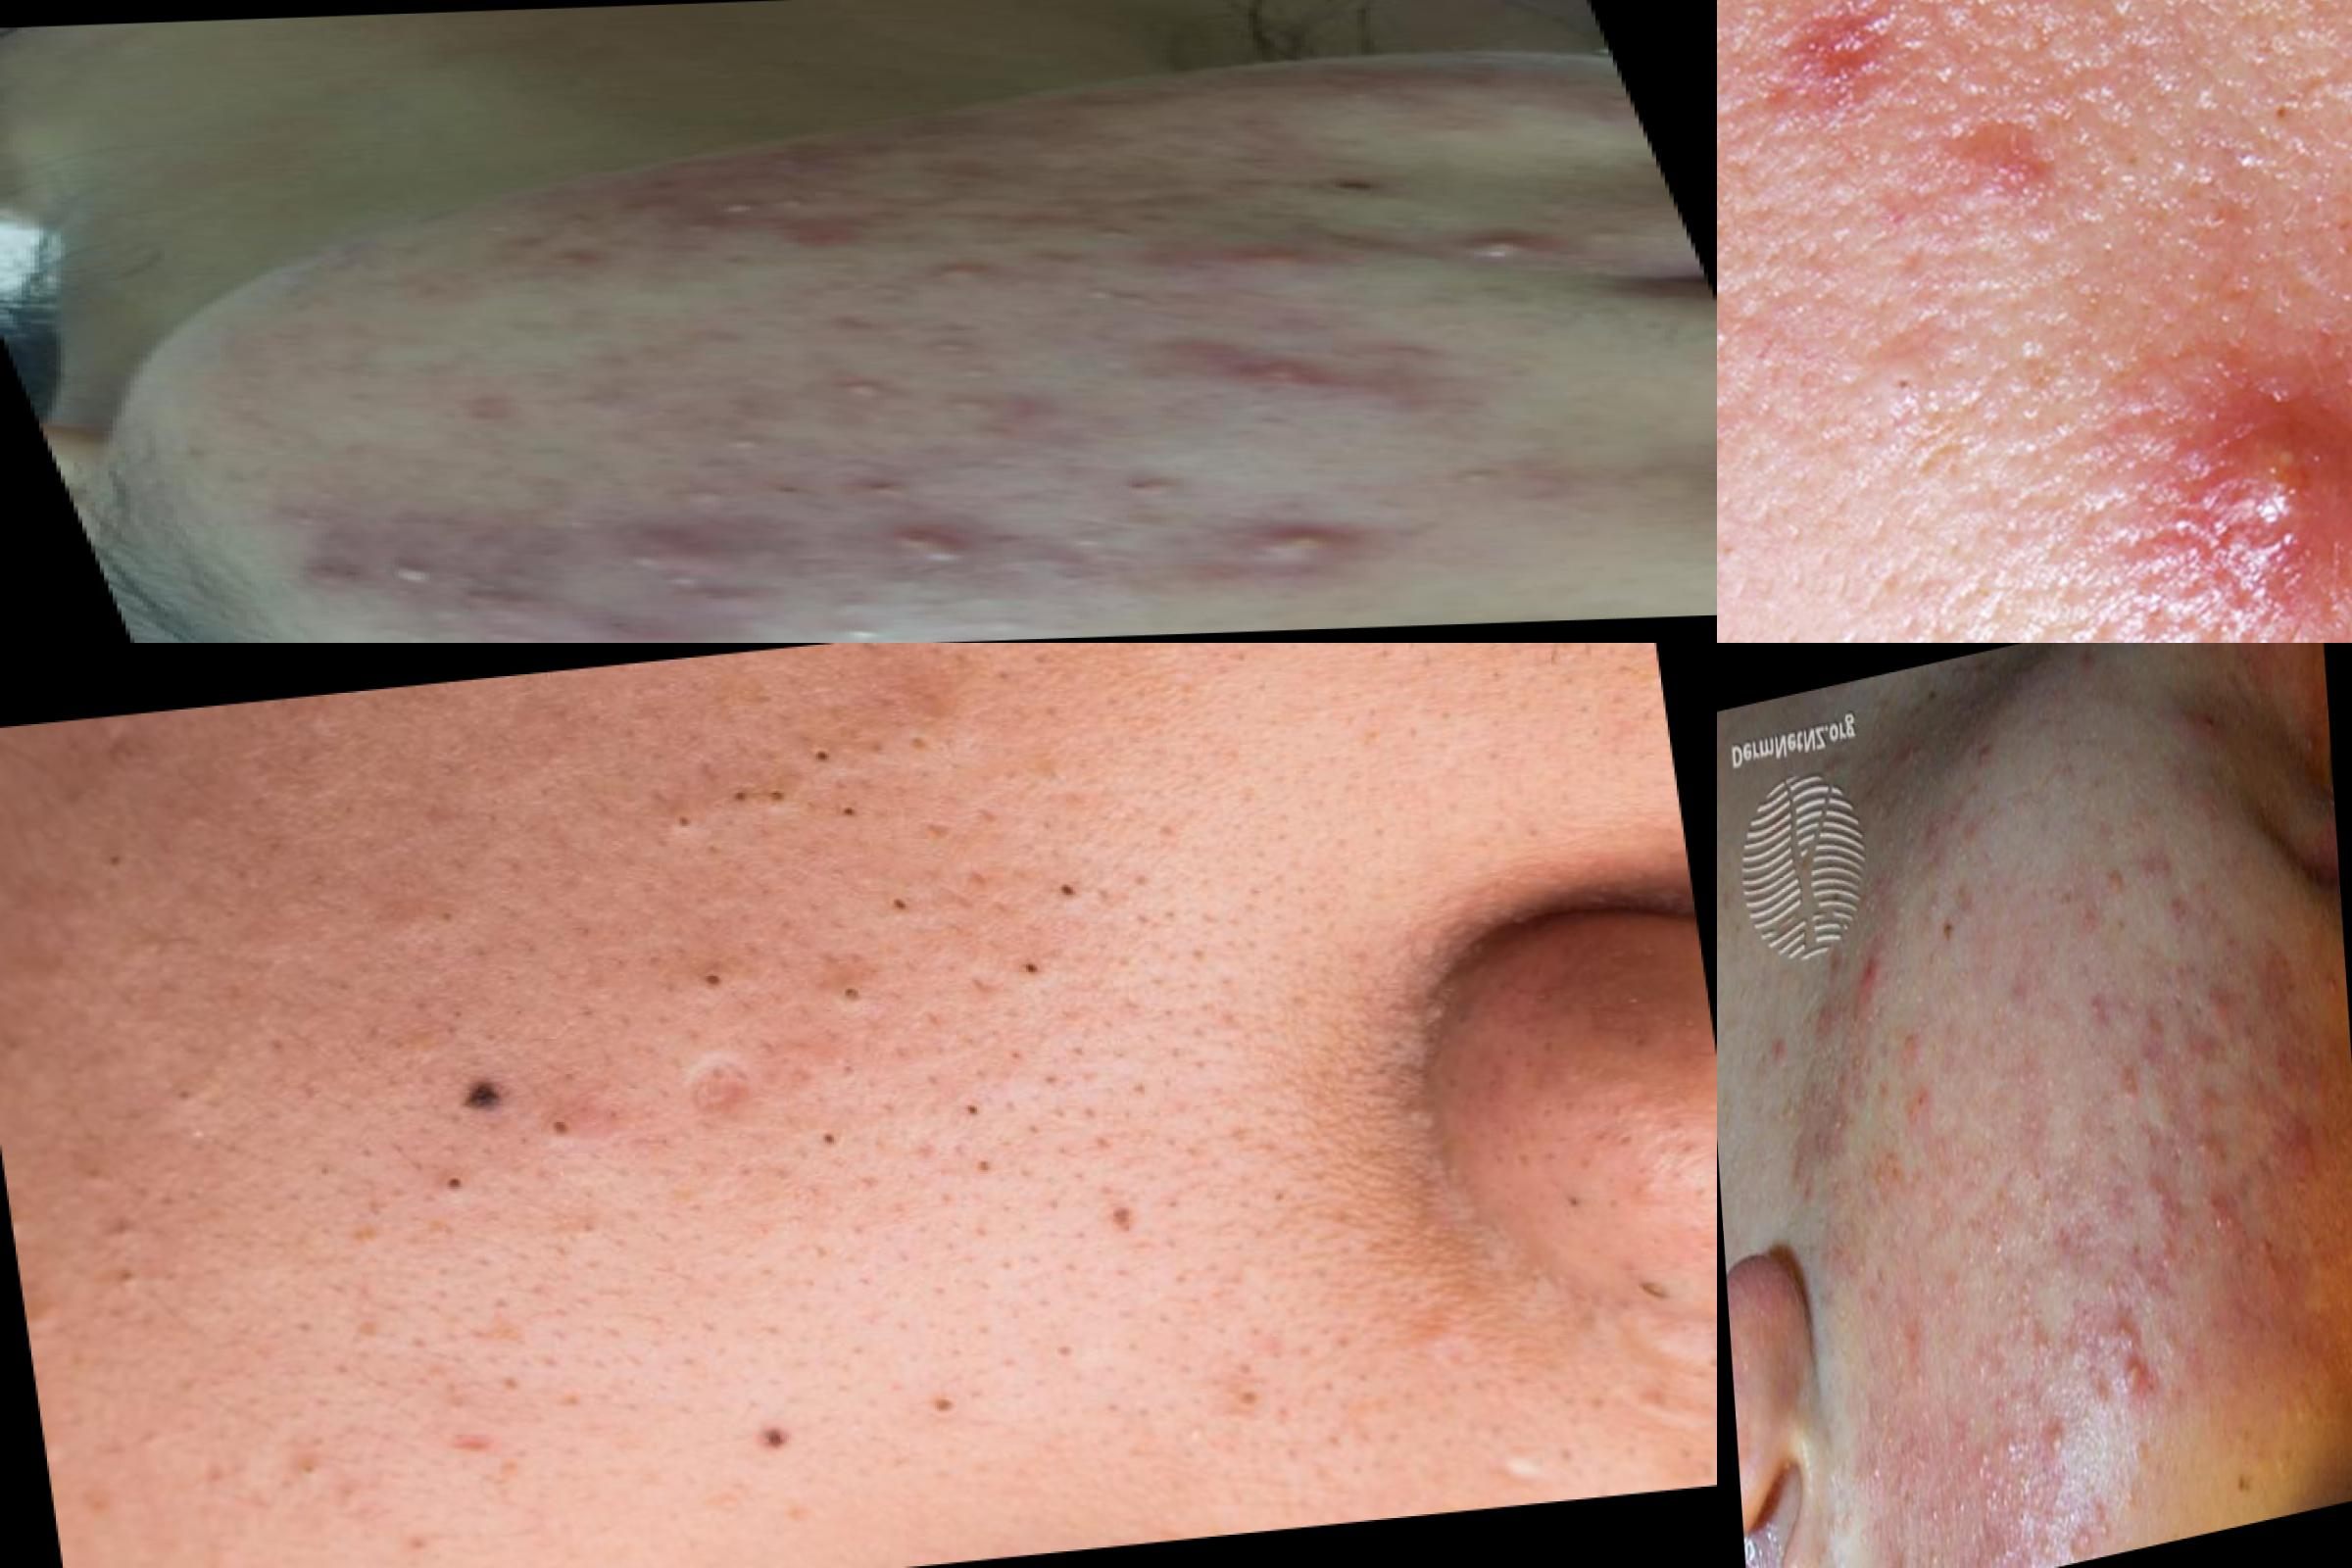acne_scars: (1752, 2, 1944, 166), (682, 1048, 763, 1150), (413, 1395, 513, 1473)
blackhead: (635, 723, 892, 863), (56, 1146, 166, 1307), (1580, 1225, 1713, 1325), (1195, 1335, 1304, 1430), (143, 1034, 240, 1136), (418, 865, 516, 955), (528, 1085, 632, 1169), (1031, 847, 1148, 919), (402, 1146, 500, 1228), (779, 1101, 878, 1172), (822, 957, 905, 1032), (271, 1428, 355, 1498), (669, 943, 744, 1020), (1001, 941, 1092, 999), (871, 875, 950, 927)
cystic: (556, 527, 791, 614)
papular: (856, 255, 1068, 299), (1178, 240, 1360, 283), (495, 233, 651, 278), (833, 471, 950, 506), (1845, 926, 1883, 1022)
purulent: (660, 187, 850, 240), (859, 522, 1011, 583), (775, 366, 943, 411), (681, 416, 814, 472), (1447, 222, 1577, 276), (1213, 520, 1347, 567), (369, 549, 500, 591), (2121, 1351, 2163, 1409)
sebo-crystan-conglo: (2147, 336, 2352, 605), (1181, 345, 1384, 402)
whitehead: (1414, 448, 1545, 500), (1052, 276, 1186, 325), (1019, 522, 1153, 569), (2004, 1246, 2051, 1342), (777, 612, 920, 644), (1545, 217, 1662, 250), (903, 336, 1032, 364), (2028, 1409, 2084, 1472), (2091, 1244, 2133, 1325), (1494, 87, 1582, 124), (1860, 1435, 1899, 1505), (1970, 1423, 2013, 1484), (2200, 1181, 2235, 1251), (1925, 1487, 1948, 1542), (1857, 1558, 1899, 1568)
